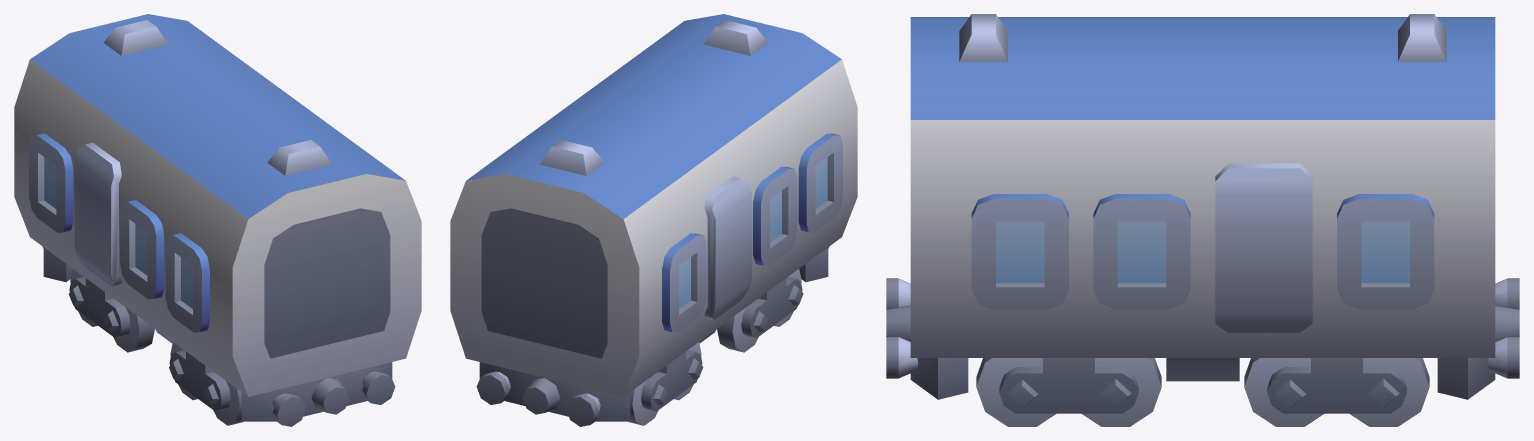
Rendered from train-bulletB.glb.
The picture shows the model from 3 angles, left to right: view 1: azimuth 30°, elevation 25°; view 2: azimuth 150°, elevation 25°; view 3: azimuth 270°, elevation 25°; orthographic projection. The views are drawn at different scales.
Visible parts, largest first — view 1: train-electric-bullet-b; view 2: train-electric-bullet-b; view 3: train-electric-bullet-b.
Part boxes in pixels (x1,y1,x2,y2): train-electric-bullet-b: (14, 14, 421, 426); train-electric-bullet-b: (450, 14, 857, 426); train-electric-bullet-b: (886, 14, 1519, 426).
Size of the model in its own units: 1.3 by 1.64 by 2.6.
Materials: 1 (1 with a texture image).
